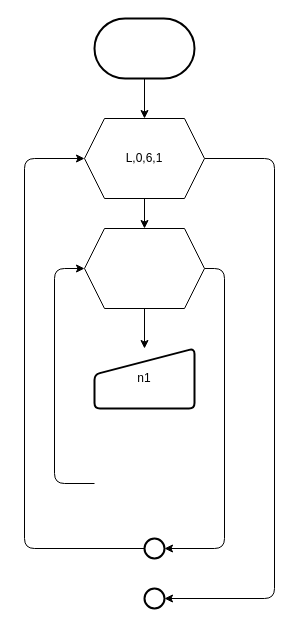
This 300x626 diagram has some shape labels left out. Here are the shapes that lost their labels. From the top down, the centre of each, then its label:
At (x=144, y=48): "início".
At (x=144, y=268): "C,0,2,1".
